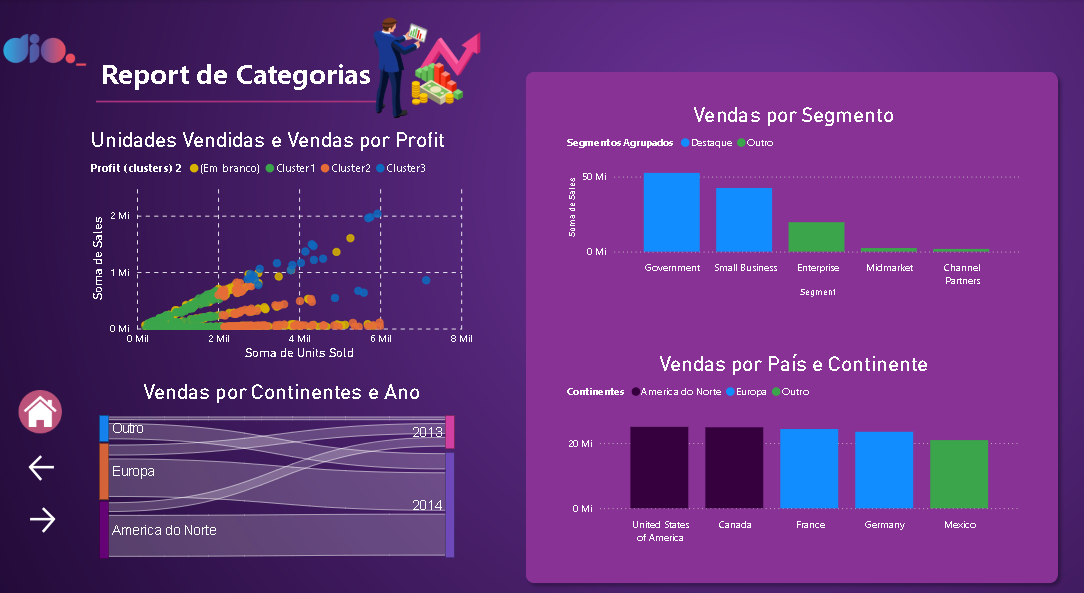

Layout of this report page (visuals, bound fields, positions):
{"tool":"powerbi","page":{"name":"Categorias & Cluster","canvas":[1280,720],"ordinal":4},"visuals":[{"type":"image","box":[0,0,1280,720],"z":0},{"type":"shape","box":[611.4,81.4,644.3,620],"z":1000},{"type":"image","box":[6,2,98,124],"z":2000},{"type":"scatterChart","title":"Unidades Vendidas e Vendas por Profit ","fields":{"Category":["financials.Profit"],"X":["Sum(financials.Units Sold)"],"Y":["Sum(financials. Sales)"],"Series":["financials.Profit (clusters) 2"]},"box":[105,156.7,458.3,278.3],"z":3000},{"type":"sankey02300D1BE6F5427989F3DE31CCA9E0F32020","title":"Vendas por Continentes e Ano","fields":{"Source":["financials.Continentes"],"Destination":["financials.Date.Variation.Hierarquia de datas.Ano"],"Weight":["Sum(financials. Sales)"]},"box":[105,453.3,458.3,228.3],"z":4000},{"type":"columnChart","title":"Vendas por País e Continente","fields":{"Category":["financials.Country"],"Y":["Sum(financials. Sales)"],"Series":["financials.Continentes"]},"box":[664.3,420,542.9,232.9],"z":5000},{"type":"columnChart","title":"Vendas por Segmento","fields":{"Category":["financials.Segment"],"Y":["Sum(financials. Sales)"],"Series":["financials.Segmentos Agrupados"]},"box":[664.3,127.1,542.9,232.9],"z":6000},{"type":"actionButton","box":[32,598,48,40],"z":7000},{"type":"actionButton","box":[31.7,536.7,46.7,40],"z":8000},{"type":"textbox","box":[116,64,468,62],"z":9000},{"type":"shape","box":[115.7,111.4,331.4,27.1],"z":10000},{"type":"image","box":[21.4,464.3,57.1,51.4],"z":11000},{"type":"actionButton","box":[21.4,457.1,57.1,61.4],"z":12000},{"type":"image","box":[414.3,1.4,215.7,168.6],"z":13000}]}

Visuals, with their boxes in screenshot pixels (x1, y1, x2, y2), scaled from the page's 1280x720 canvas onto the 1084x593 screenshot:
image: [0,0,1083,592]
shape: [518,67,1063,578]
image: [5,2,88,104]
"Unidades Vendidas e Vendas por Profit " scatterChart: [89,129,477,358]
"Vendas por Continentes e Ano" sankey02300D1BE6F5427989F3DE31CCA9E0F32020: [89,373,477,561]
"Vendas por País e Continente" columnChart: [563,346,1022,538]
"Vendas por Segmento" columnChart: [563,105,1022,296]
actionButton: [27,493,68,525]
actionButton: [27,442,66,475]
textbox: [98,53,495,104]
shape: [98,92,379,114]
image: [18,382,66,425]
actionButton: [18,376,66,427]
image: [351,1,534,140]
